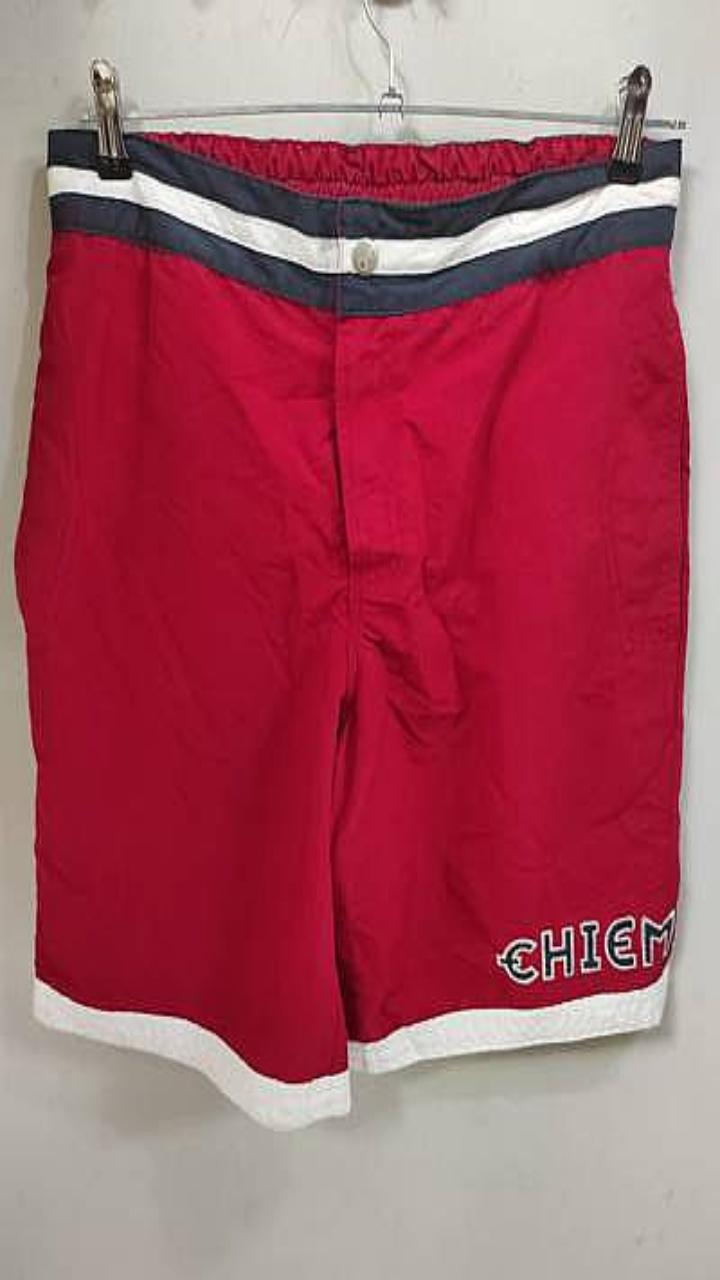Shorts: (15, 128, 687, 1127)
